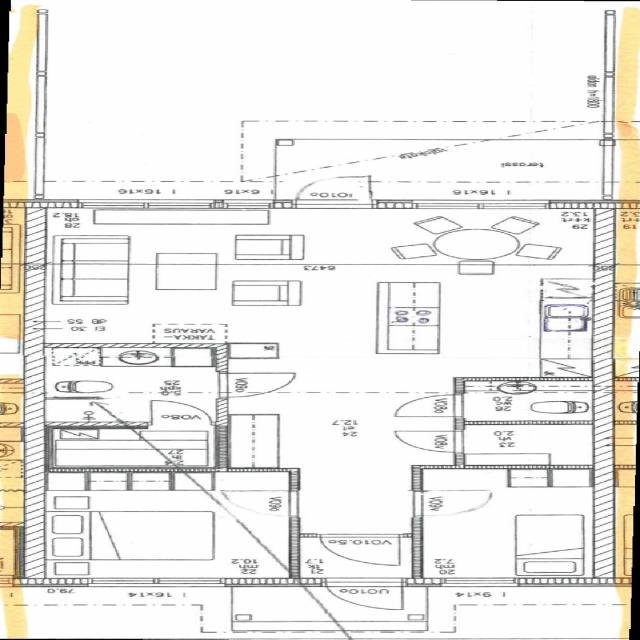door: (325, 578, 402, 614), (296, 172, 372, 208), (320, 534, 400, 566), (217, 490, 300, 516), (412, 490, 493, 516), (218, 373, 297, 397), (394, 394, 464, 416), (394, 431, 464, 452), (151, 401, 211, 425)
